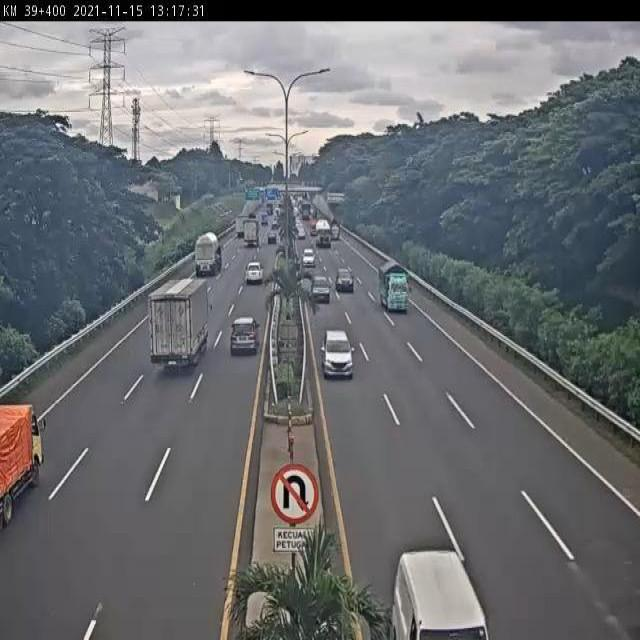bus-s-: (388, 545, 493, 640)
car: (321, 325, 355, 379), (231, 316, 260, 353), (309, 272, 330, 305), (333, 266, 357, 294), (243, 258, 266, 286), (301, 248, 317, 269)
truck-l-: (193, 229, 222, 279)
truck-m-: (155, 271, 216, 365), (376, 260, 412, 312)
truck-s-: (0, 404, 45, 532)
